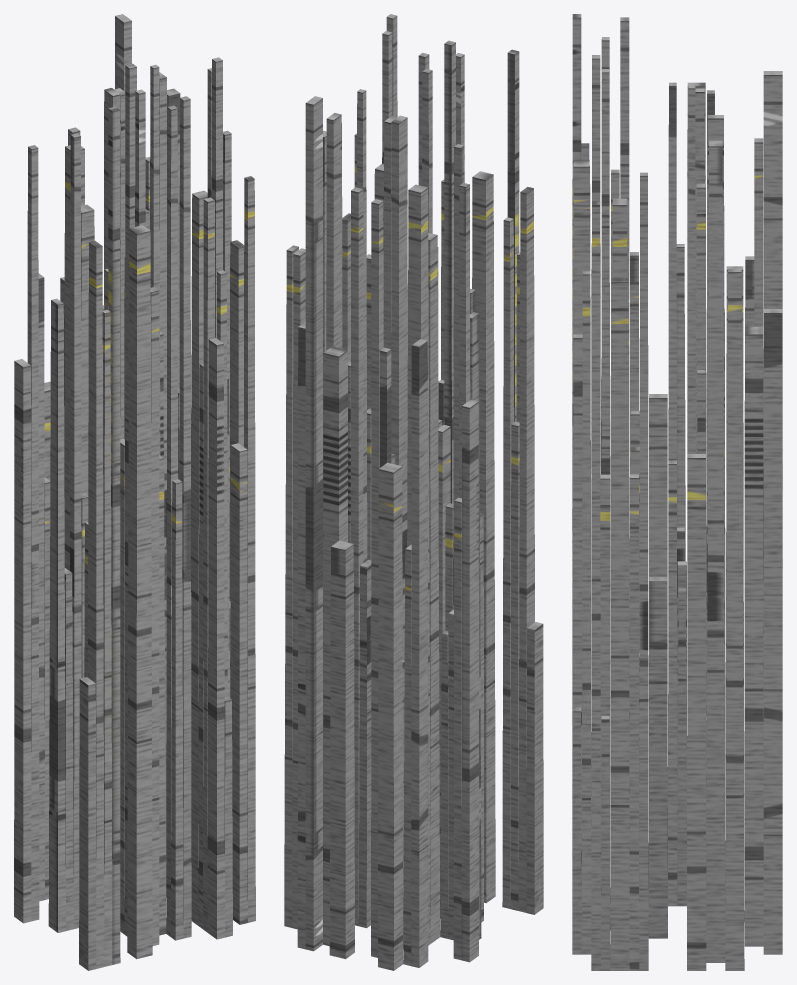
Rendered from SFBuildings.fbx.
The picture shows the model from 3 angles, left to right: view 1: azimuth 30°, elevation 25°; view 2: azimuth 150°, elevation 25°; view 3: azimuth 270°, elevation 25°; orthographic projection. The views are drawn at different scales.
Parts seen in each view (by area): view 1: discombobulated_mesh.002; view 2: discombobulated_mesh.002; view 3: discombobulated_mesh.002.
Part boxes in pixels (box(x1,y1,x2,y2)): discombobulated_mesh.002: box(14, 14, 255, 970); discombobulated_mesh.002: box(284, 14, 543, 970); discombobulated_mesh.002: box(572, 14, 782, 970).
Bounding box in the file's own units: 1185 × 5570 × 1185.
